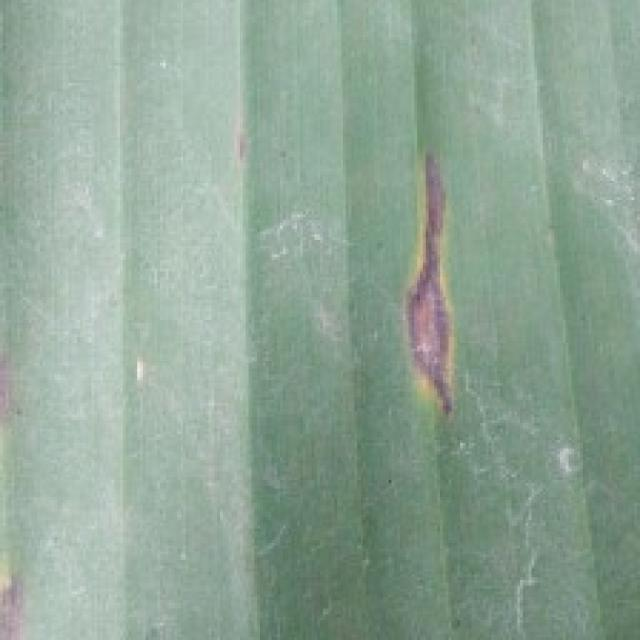Early_leaf_spot: (374, 129, 492, 437), (0, 536, 58, 640)
